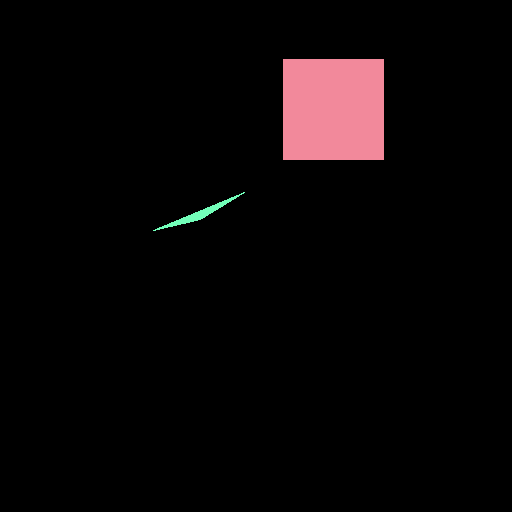square: (283, 59, 383, 159)
triangle: (153, 192, 244, 230)
